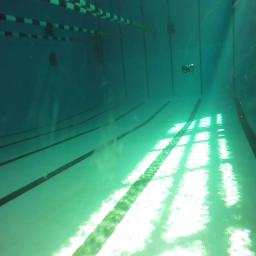front: (180, 62, 196, 72)
